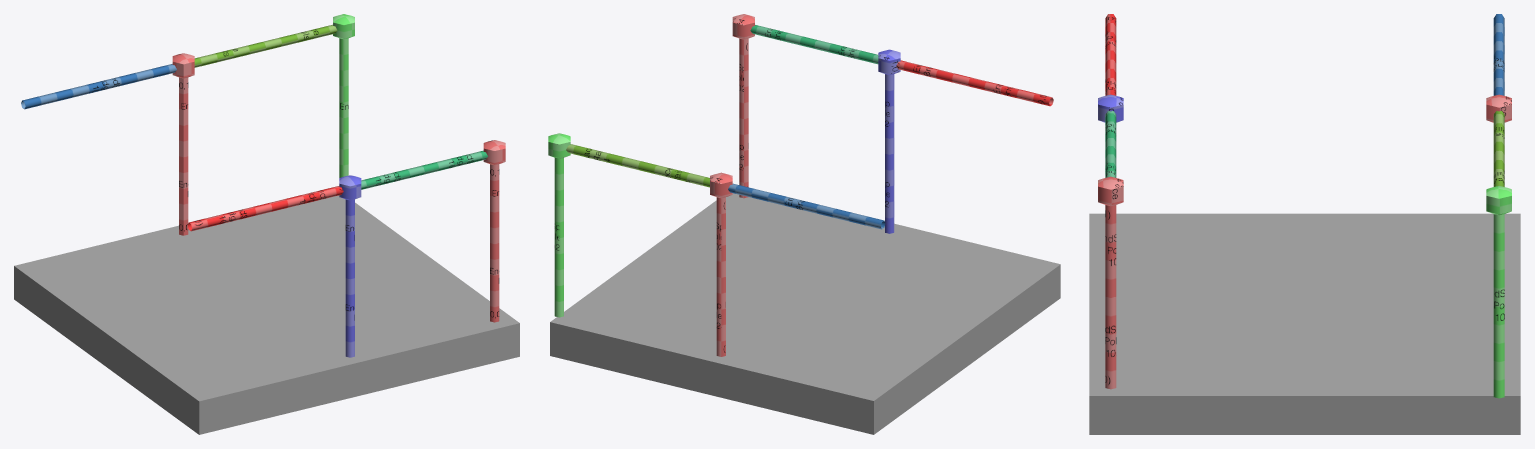
File: bridge_intersection_T_Left.fbx
3 views of the same model, side by side, from view 1: azimuth 30°, elevation 25°; view 2: azimuth 150°, elevation 25°; view 3: azimuth 270°, elevation 25° (orthographic). The views are drawn at different scales.
Visible parts, largest first — view 1: bridge_intersection_T_Left_floor, bridge_intersection_T_Left; view 2: bridge_intersection_T_Left_floor, bridge_intersection_T_Left; view 3: bridge_intersection_T_Left_floor, bridge_intersection_T_Left.
Boxes of the visible parts, box(x1,y1,x2,y2) form: bridge_intersection_T_Left_floor: box(14, 195, 519, 434); bridge_intersection_T_Left: box(21, 14, 505, 357); bridge_intersection_T_Left_floor: box(550, 193, 1060, 434); bridge_intersection_T_Left: box(548, 14, 1053, 356); bridge_intersection_T_Left_floor: box(1089, 213, 1520, 434); bridge_intersection_T_Left: box(1098, 14, 1511, 398).
Bounding box in the file's own units: 207 × 126 × 200.
